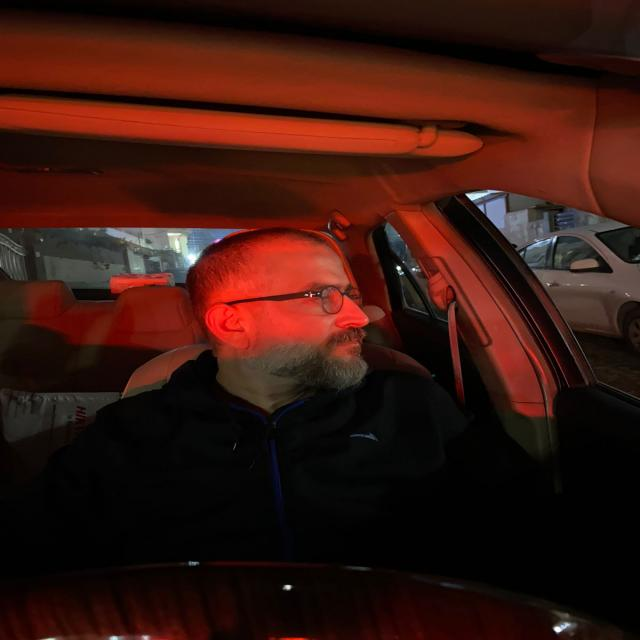LeftRight: (171, 239, 388, 392)
